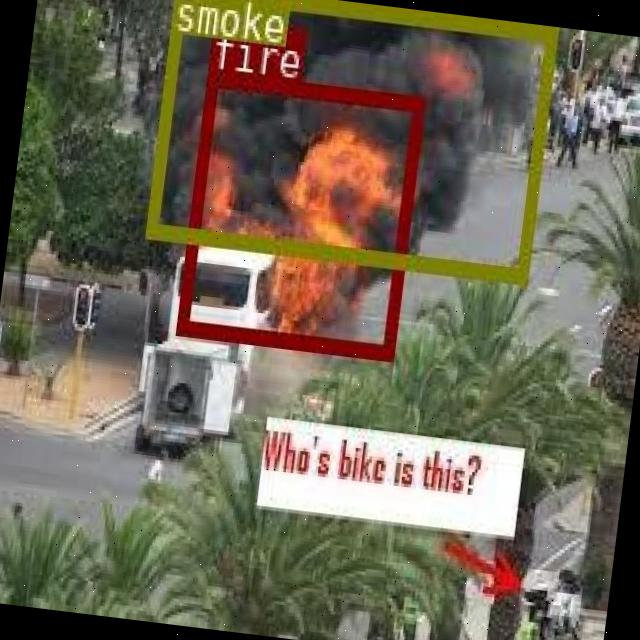fire: (175, 70, 422, 356)
smoke: (143, 0, 554, 281)
